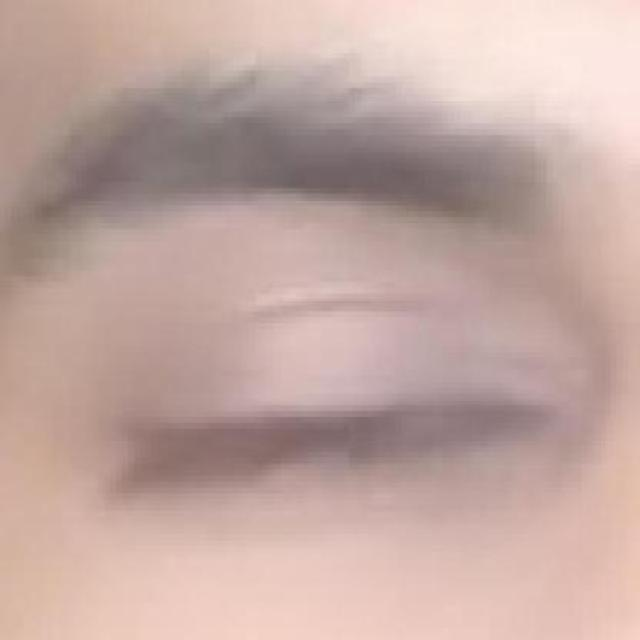drowsy: (107, 322, 553, 546)
